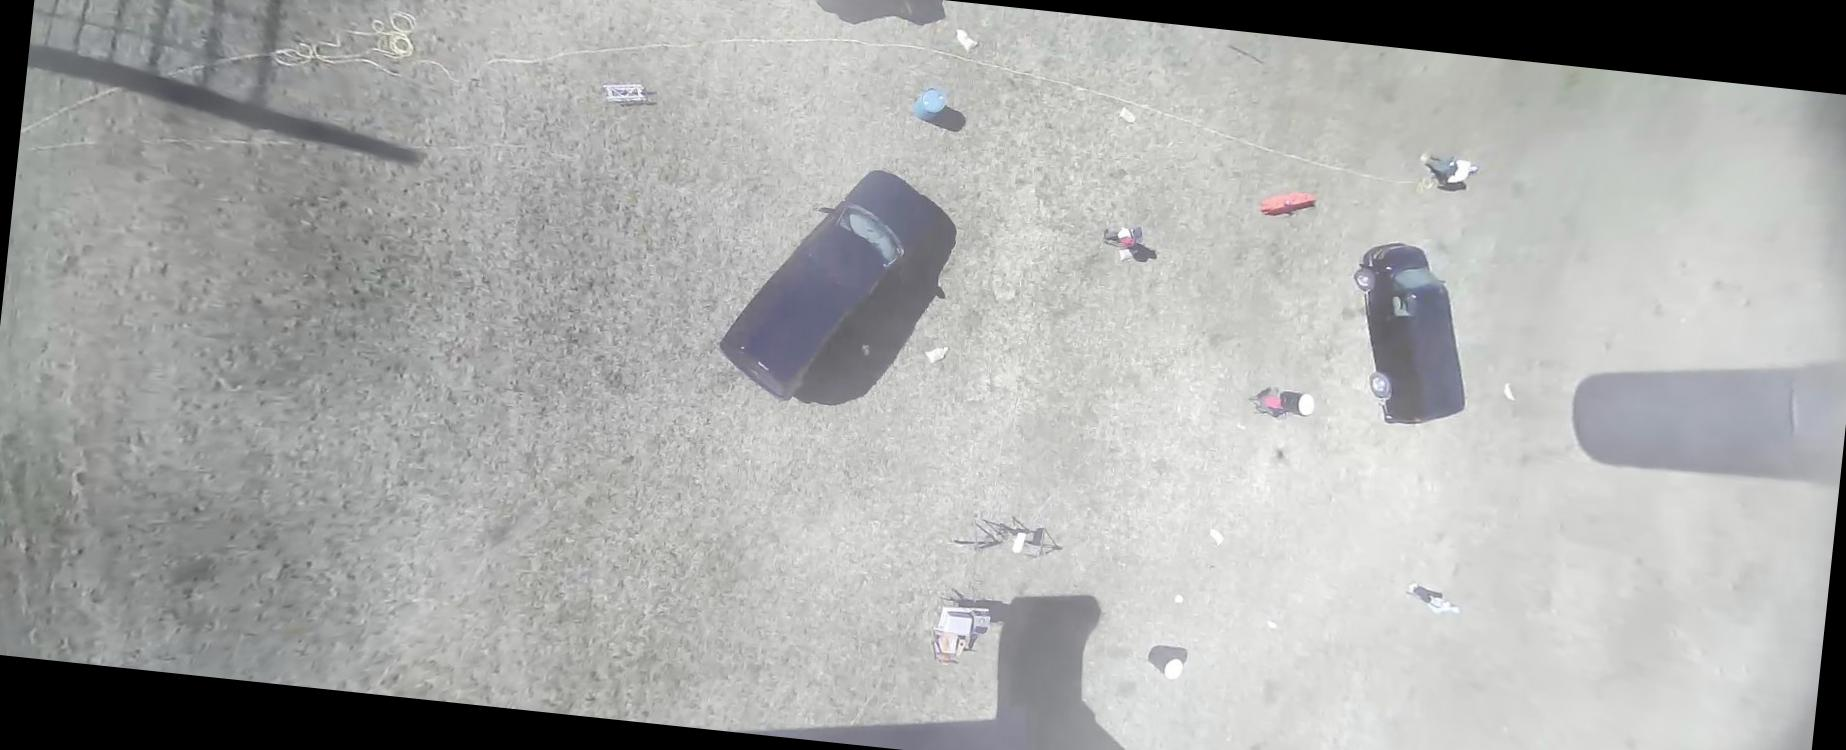vehicle: (713, 155, 942, 417), (1339, 237, 1481, 431)
